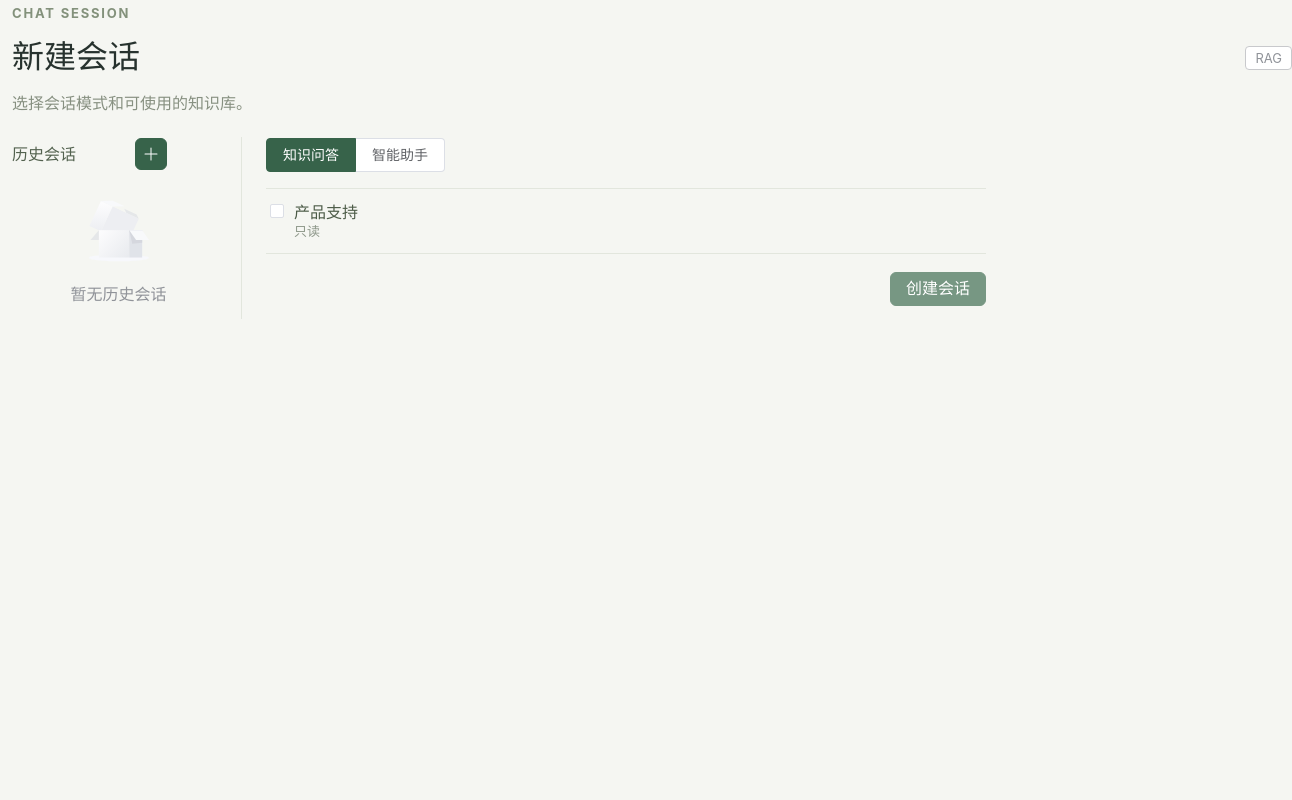
Test: 会话创建页面 › 创建智能助手会话并展示工单查询时刻和历史标记（继承：false）
Click the radio button labelled "智能助手". click: [400, 155]
box: [356,138,445,172]
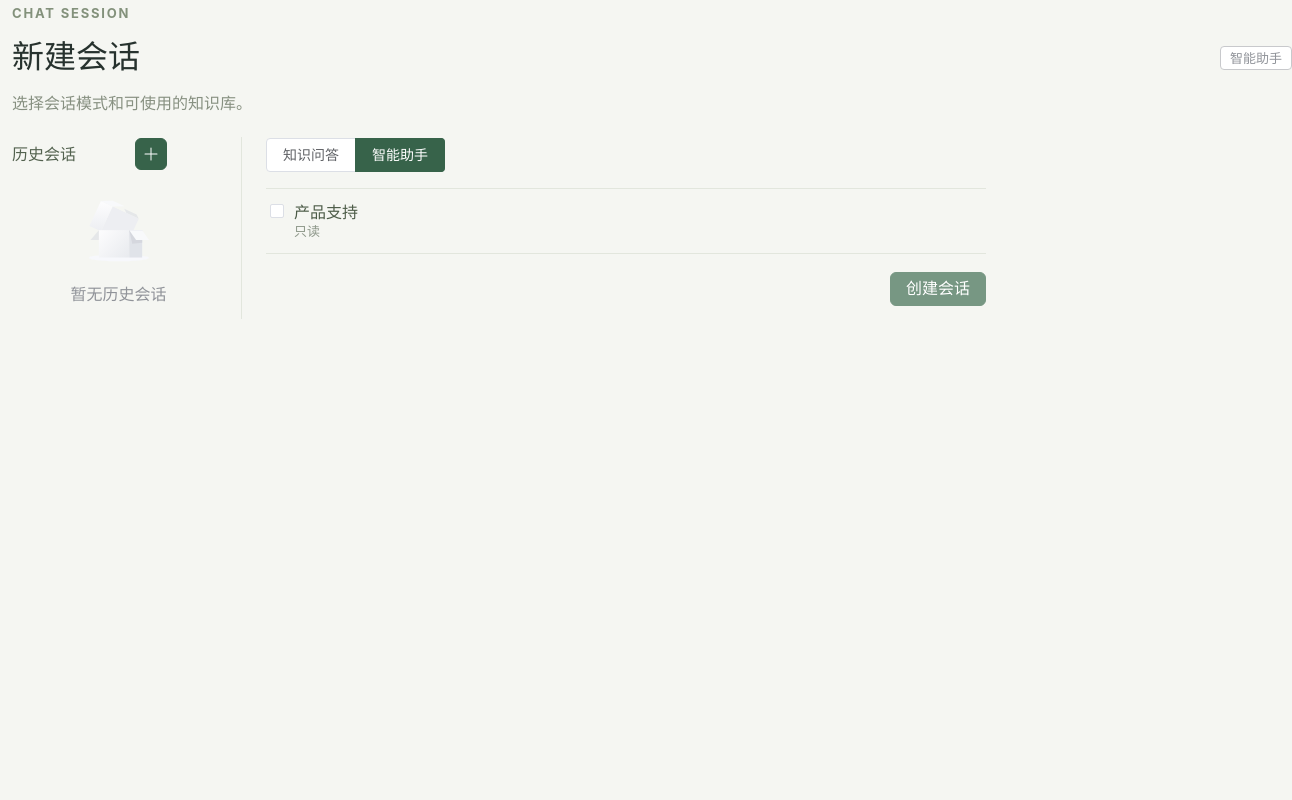
Click the checkbox labelled "产品支持 只读". click: [326, 212]
box: [266,189,986,254]
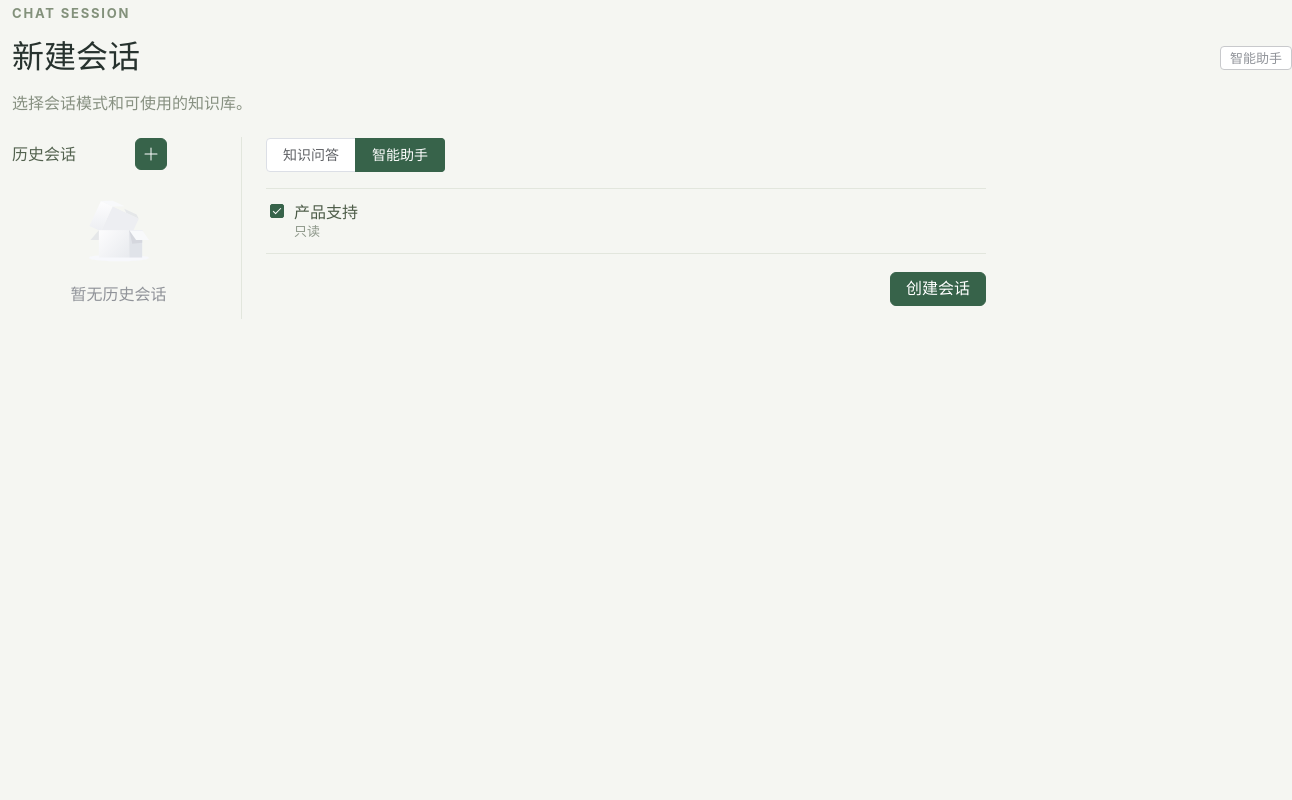
Submit the form with class "chat-session-form", box [266,137,986,306]
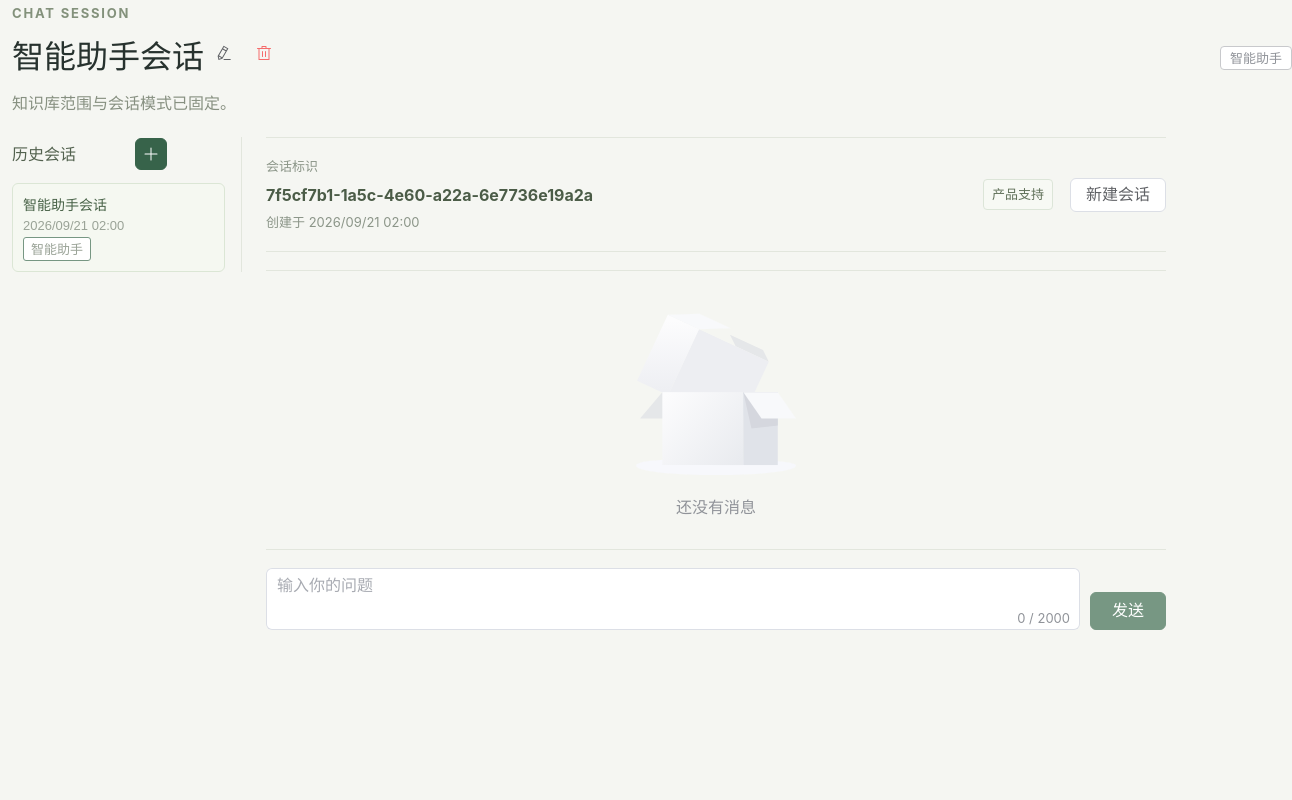
Type "T10086 当前状态" into the text box with placeholder "输入你的问题". click: [673, 599]
box: [266,568,1080,630]
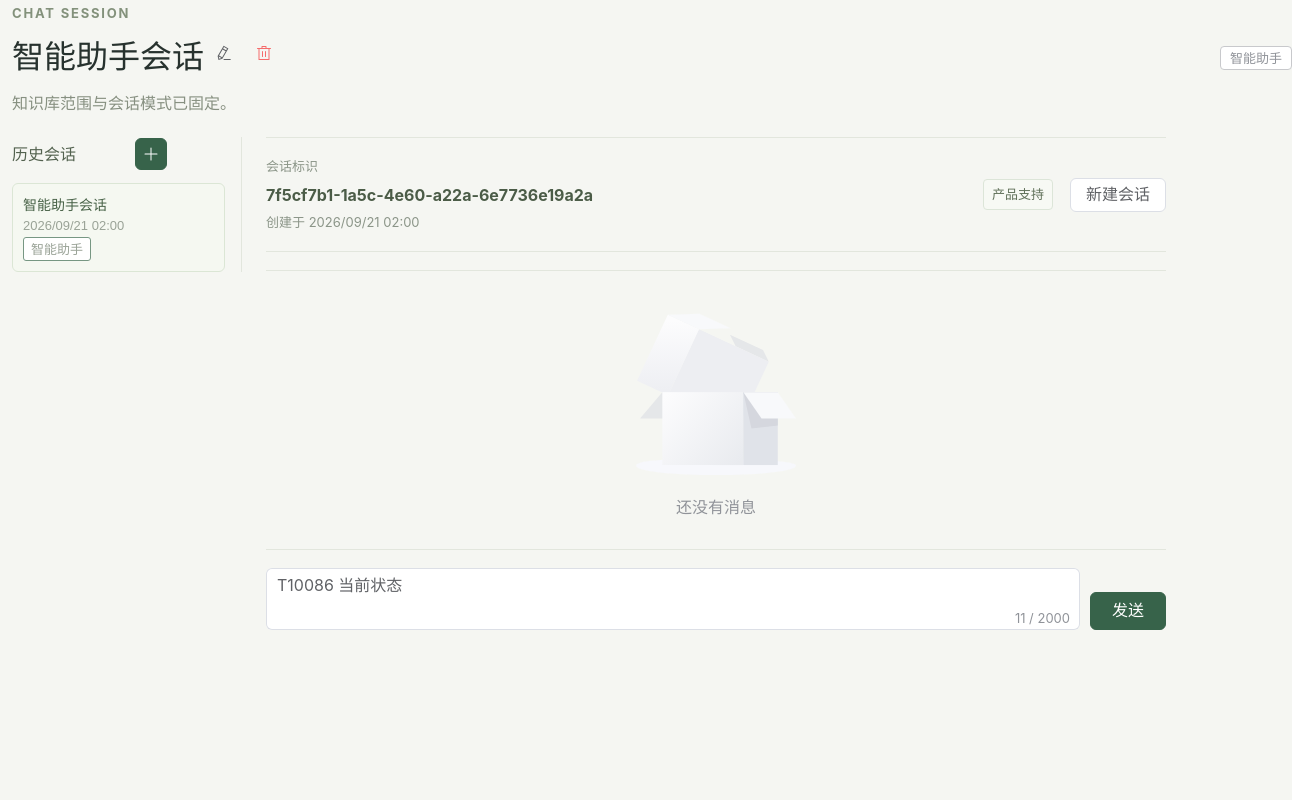
Submit the form with class "chat-composer", box [266,568,1166,630]
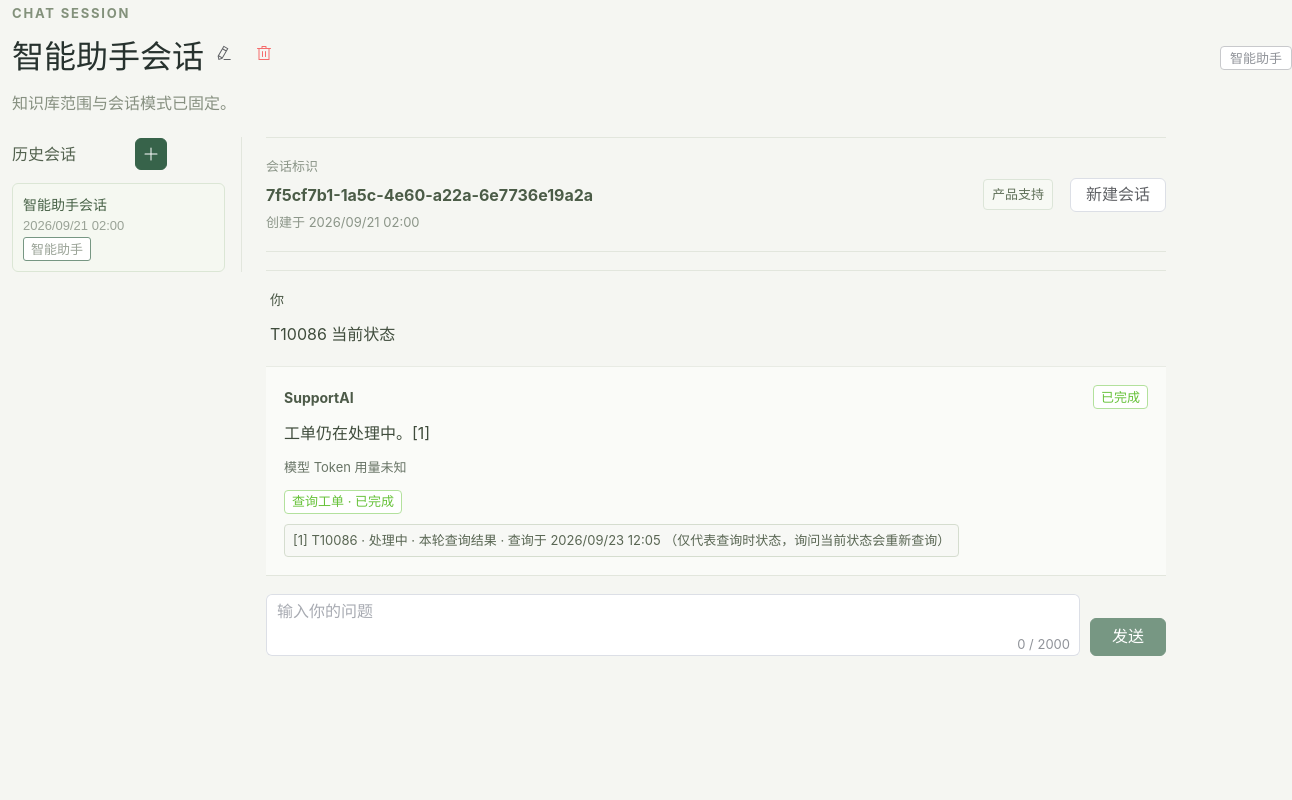
expect the text "查询工单 · 已完成" is shown: met, box [292,495,394,508]
expect the text "[1] T10086 · 处理中" is shown: met, box [293,532,664,548]
expect the text "本轮查询结果" is shown: met, box [293,532,664,548]
